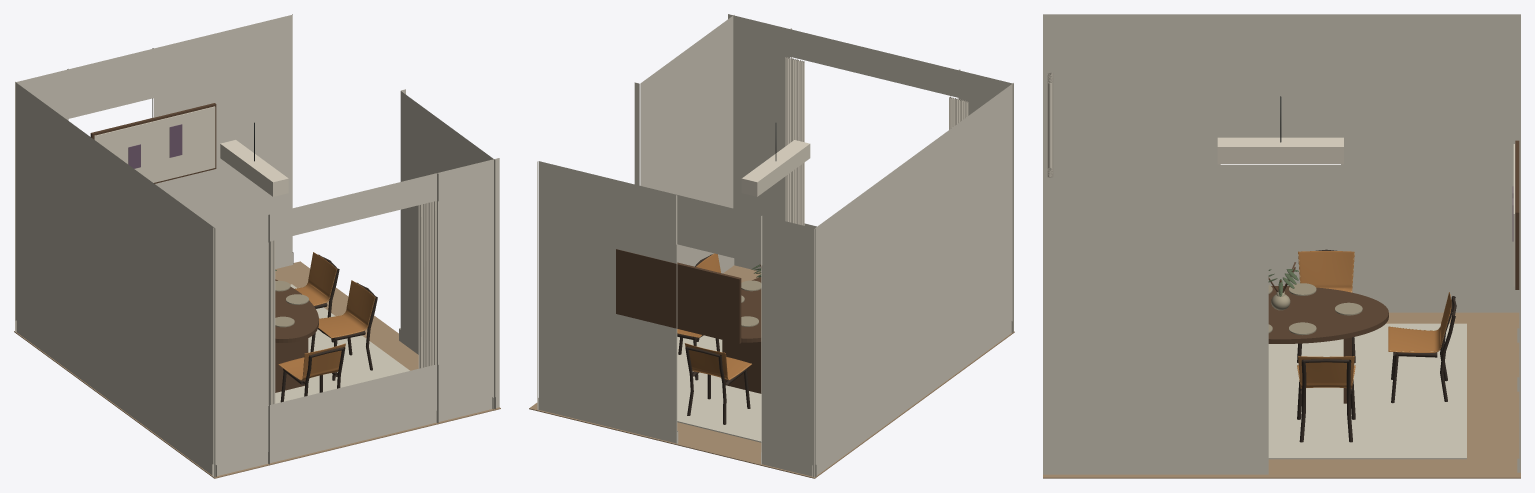
File: dining-2.glb
The picture shows the model from 3 angles, left to right: view 1: azimuth 30°, elevation 25°; view 2: azimuth 150°, elevation 25°; view 3: azimuth 270°, elevation 25°; orthographic projection. The views are drawn at different scales.
Parts seen in each view (by area): view 1: DESIGN | dining removable wall finish, DESIGN | Textile artwork.001, DESIGN | dining floor finish, DESIGN | Dining ground, DESIGN | Dining linen edge.001, DESIGN | Required Isadora dining chair 3, DESIGN | Dining light 1 shade, DESIGN | Required Isadora dining chair 5, DESIGN | Dining table top, DESIGN | Required Isadora dining chair 4, DESIGN | Dining linen edge, DESIGN | Dining table trestle (+1 smaller); view 2: DESIGN | dining removable wall finish, DESIGN | Quiet artwork frame.001, DESIGN | Dining ground, DESIGN | dining floor finish, DESIGN | Dining linen edge.001, DESIGN | Required Isadora dining chair 6, DESIGN | Dining light 1 shade, DESIGN | Dining table trestle.001, DESIGN | Dining table top; view 3: DESIGN | dining removable wall finish, DESIGN | Dining ground, DESIGN | dining floor finish, DESIGN | Dining table top, DESIGN | Dining light 1 shade, DESIGN | Required Isadora dining chair 6, DESIGN | Required Isadora dining chair 4, DESIGN | Required Isadora dining chair 2, DESIGN | Quiet artwork frame.001, DESIGN | Dining linen edge.
Part boxes in pixels (box(x1,y1,x2,y2)): DESIGN | dining removable wall finish: box(15, 14, 499, 477); DESIGN | Textile artwork.001: box(94, 106, 215, 182); DESIGN | dining floor finish: box(14, 261, 500, 478); DESIGN | Dining ground: box(275, 284, 409, 403); DESIGN | Dining linen edge.001: box(418, 201, 436, 368); DESIGN | Required Isadora dining chair 3: box(310, 280, 377, 380); DESIGN | Dining light 1 shade: box(220, 140, 288, 196); DESIGN | Required Isadora dining chair 5: box(278, 343, 345, 402); DESIGN | Dining table top: box(275, 279, 318, 342); DESIGN | Required Isadora dining chair 4: box(295, 252, 339, 342); DESIGN | Dining linen edge: box(268, 240, 275, 405); DESIGN | Dining table trestle: box(275, 338, 308, 392); DESIGN | dining removable wall finish: box(537, 14, 1013, 477); DESIGN | Quiet artwork frame.001: box(616, 249, 741, 343); DESIGN | Dining ground: box(677, 335, 761, 442); DESIGN | dining floor finish: box(529, 265, 1014, 478); DESIGN | Dining linen edge.001: box(785, 57, 804, 225); DESIGN | Required Isadora dining chair 6: box(684, 343, 751, 424); DESIGN | Dining light 1 shade: box(741, 140, 810, 196); DESIGN | Dining table trestle.001: box(722, 340, 761, 393); DESIGN | Dining table top: box(741, 277, 761, 342); DESIGN | dining removable wall finish: box(1043, 14, 1520, 474); DESIGN | Dining ground: box(1268, 323, 1466, 459); DESIGN | dining floor finish: box(1043, 312, 1520, 478); DESIGN | Dining table top: box(1268, 286, 1388, 343); DESIGN | Dining light 1 shade: box(1217, 137, 1343, 164); DESIGN | Required Isadora dining chair 6: box(1388, 292, 1456, 403); DESIGN | Required Isadora dining chair 4: box(1297, 356, 1355, 442); DESIGN | Required Isadora dining chair 2: box(1297, 249, 1355, 362); DESIGN | Quiet artwork frame.001: box(1515, 140, 1519, 289); DESIGN | Dining linen edge: box(1047, 72, 1053, 170).
Size of the model in its own units: 3.28 by 2.74 by 3.98.
